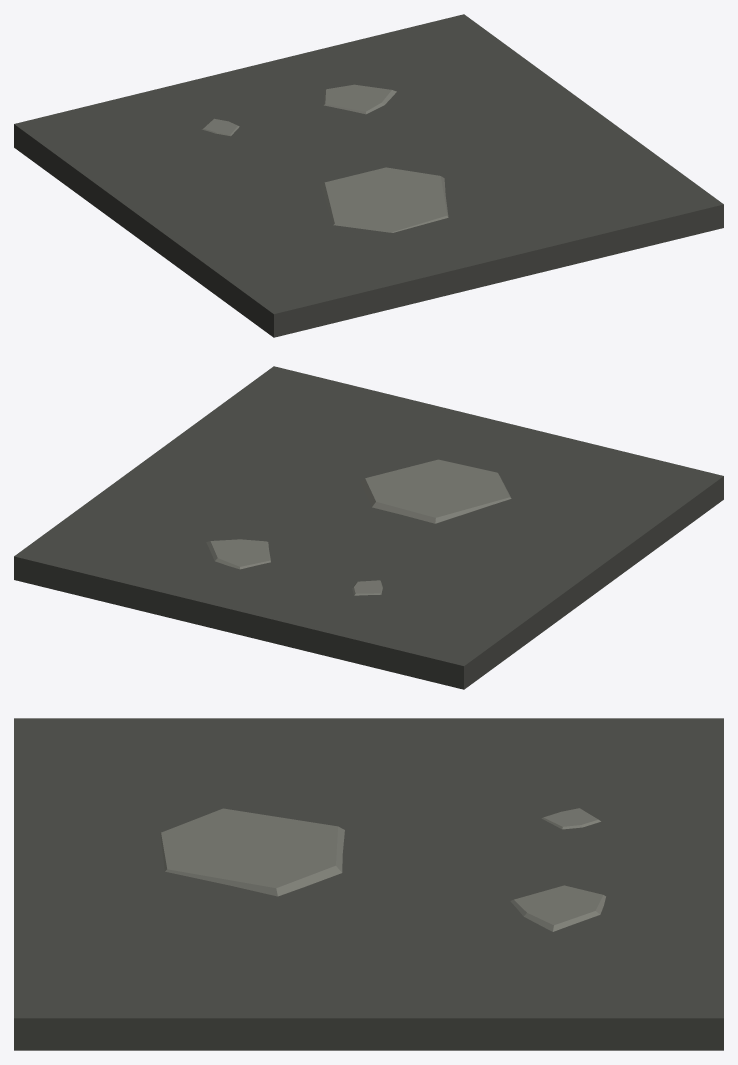
File: Floor_8.fbx
The picture shows the model from 3 angles, top to bottom: view 1: azimuth 30°, elevation 25°; view 2: azimuth 150°, elevation 25°; view 3: azimuth 270°, elevation 25°; orthographic projection. The views are drawn at different scales.
Parts seen in each view (by area): view 1: Floor_8; view 2: Floor_8; view 3: Floor_8.
Boxes of the visible parts, x1,y1,x2,y2 form: Floor_8: [14, 14, 723, 337]; Floor_8: [14, 366, 723, 689]; Floor_8: [14, 718, 723, 1050].
Bounding box in the file's own units: 200 × 11.89 × 200.
